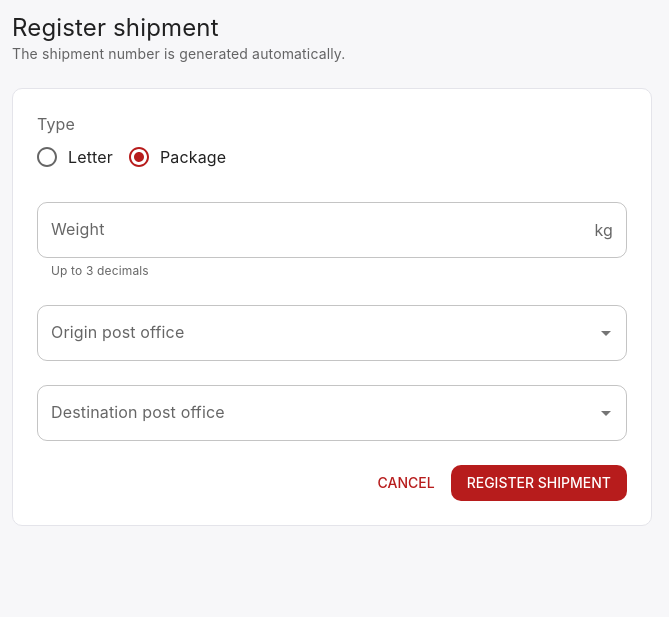
Scenario: ShipmentFormPage › maps server field errors onto the form
Type "1" into the number field labelled "Weight" at point(312, 230), box [37,202,586,258]
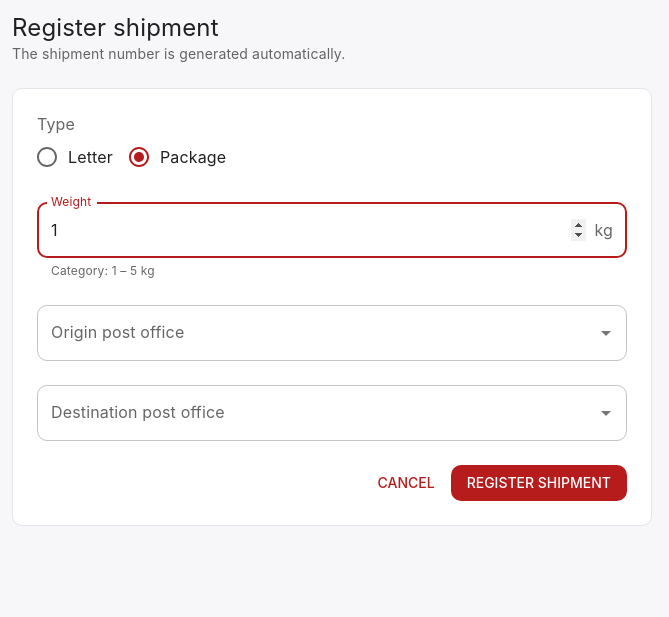
Click the dropdown labelled "Origin post office" at point(317, 333), box [46,314,588,352]
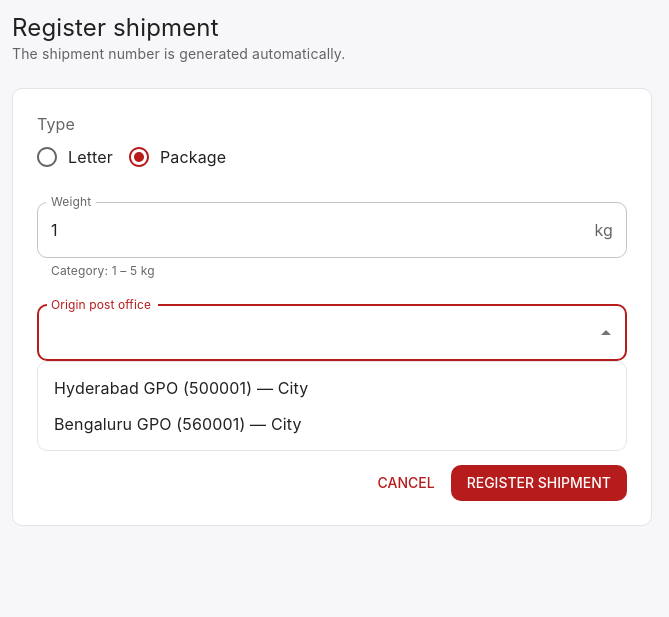
Click the option "Hyderabad GPO (500001) — City" at point(181, 388), box [54,378,308,398]
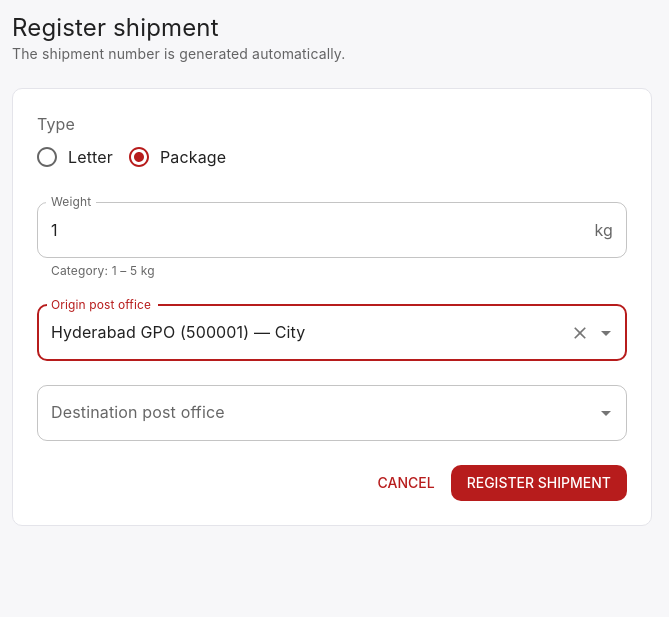
Click the dropdown labelled "Destination post office" at point(317, 413), box [46,394,588,432]
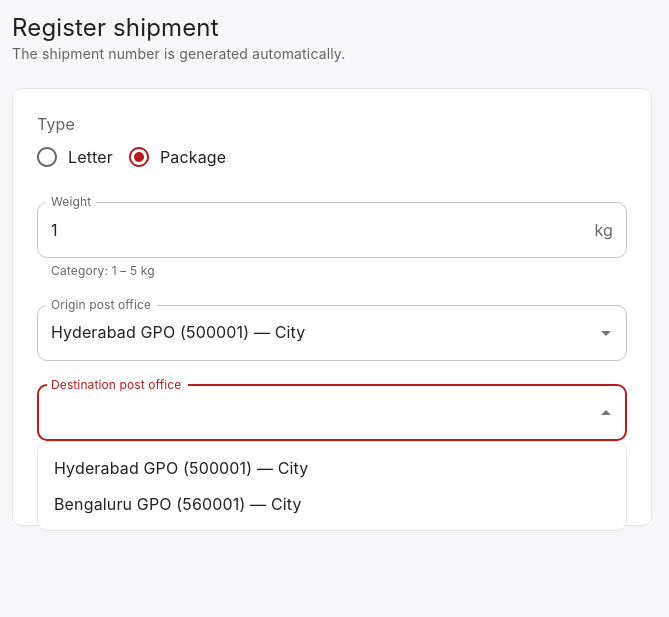
Click the option "Bengaluru GPO (560001) — City" at point(178, 504), box [54,494,302,514]
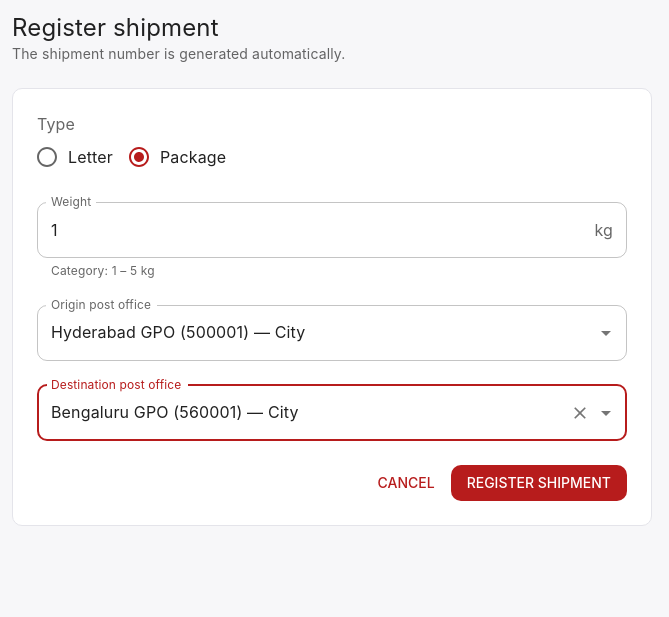
Click the button "Register shipment" at point(539, 483), box [451,465,627,501]
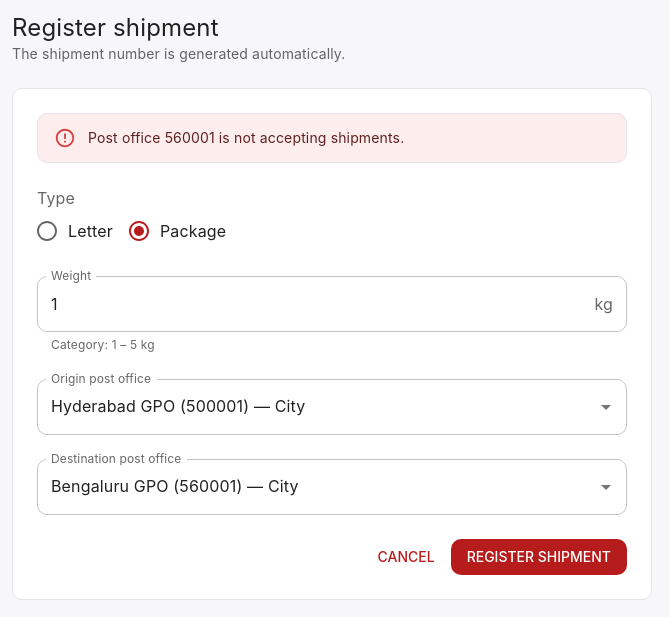
Now the text "Post office 560001 is not accepting shipments." is shown, box [88,129,404,146]
